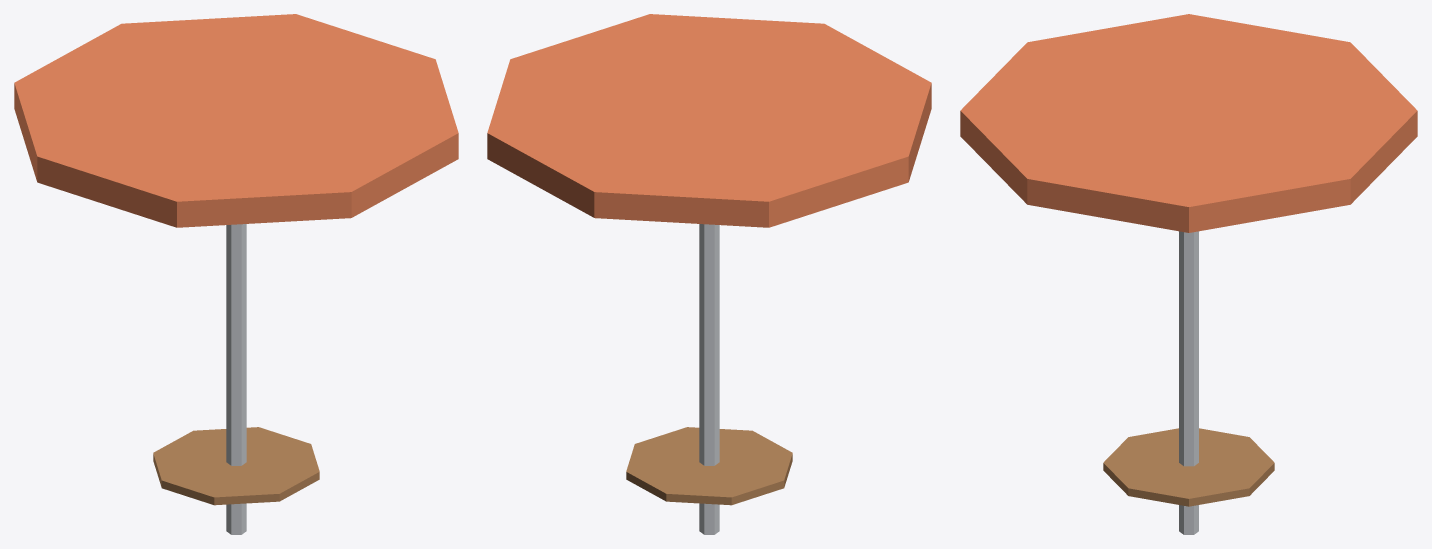
File: parasol.fbx
3 renders of one model, left to right at view 1: azimuth 30°, elevation 25°; view 2: azimuth 150°, elevation 25°; view 3: azimuth 270°, elevation 25°, orthographic.
Parts seen in each view (by area): view 1: parasol; view 2: parasol; view 3: parasol.
Boxes of the visible parts, box(x1,y1,x2,y2) form: parasol: box(14, 14, 458, 534); parasol: box(487, 14, 931, 534); parasol: box(960, 14, 1417, 534).
Bounding box in the file's own units: 3.2 × 3.25 × 3.2.
